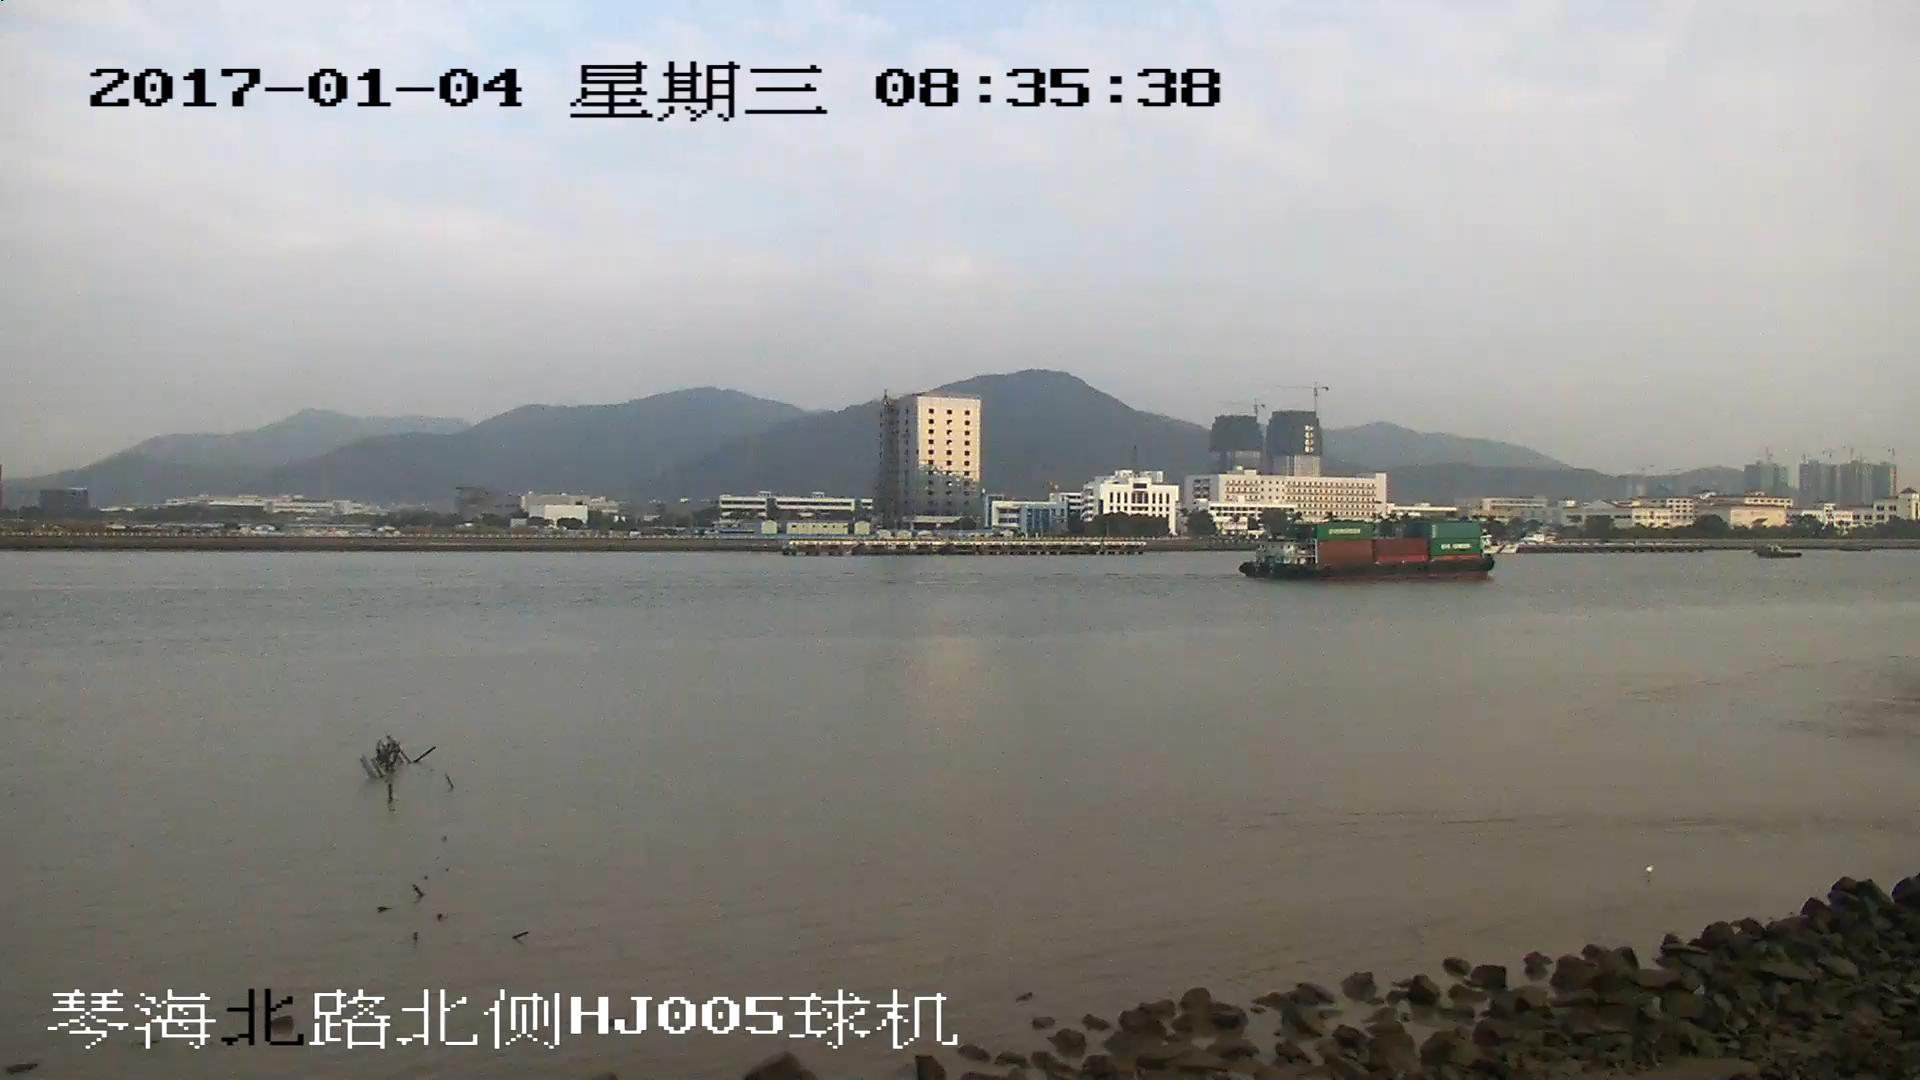Ship: (1250, 522, 1491, 583)
